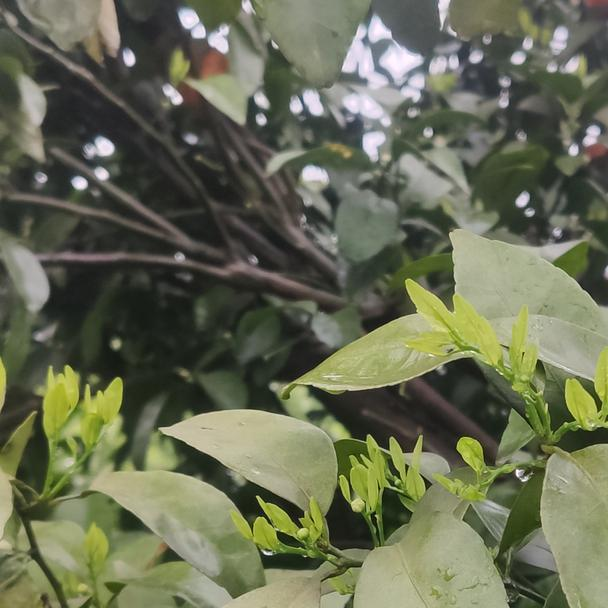shoot: (405, 271, 543, 419), (233, 505, 337, 561), (360, 434, 438, 507), (36, 363, 81, 479), (76, 382, 125, 469), (340, 467, 387, 546)
